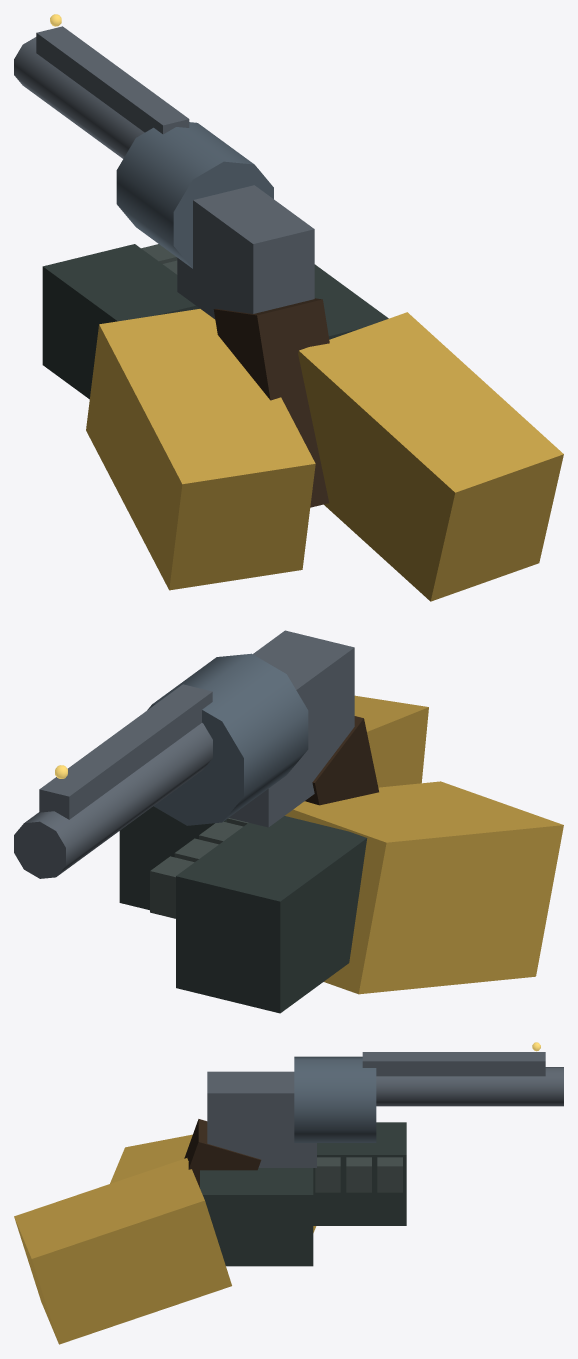
Rendered from service_revolver.glb.
The picture shows the model from 3 angles, top to bottom: view 1: azimuth 30°, elevation 25°; view 2: azimuth 150°, elevation 25°; view 3: azimuth 270°, elevation 25°; orthographic projection. The views are drawn at different scales.
Parts seen in each view (by area): view 1: _MeshInstance3D_3326, _MeshInstance3D_3320, _MeshInstance3D_3315, _MeshInstance3D_3319, Cylinder, _MeshInstance3D_3316, _MeshInstance3D_3313, _MeshInstance3D_3312, _MeshInstance3D_3325; view 2: _MeshInstance3D_3320, _MeshInstance3D_3319, Cylinder, _MeshInstance3D_3315, _MeshInstance3D_3312, _MeshInstance3D_3313, _MeshInstance3D_3326, _MeshInstance3D_3325, _MeshInstance3D_3316, _MeshInstance3D_3321, _MeshInstance3D_3322, _MeshInstance3D_3323; view 3: _MeshInstance3D_3326, _MeshInstance3D_3325, _MeshInstance3D_3315, Cylinder, _MeshInstance3D_3312, _MeshInstance3D_3319, _MeshInstance3D_3313, _MeshInstance3D_3320, _MeshInstance3D_3316, _MeshInstance3D_3321, _MeshInstance3D_3322, _MeshInstance3D_3323.
Part boxes in pixels (<box>): _MeshInstance3D_3326: <box>298,312,563,601</box>; _MeshInstance3D_3320: <box>86,309,315,590</box>; _MeshInstance3D_3315: <box>177,185,314,319</box>; _MeshInstance3D_3319: <box>42,244,199,399</box>; Cylinder: <box>116,122,273,268</box>; _MeshInstance3D_3316: <box>213,298,329,507</box>; _MeshInstance3D_3313: <box>36,26,189,134</box>; _MeshInstance3D_3312: <box>14,37,144,158</box>; _MeshInstance3D_3325: <box>314,264,388,339</box>; _MeshInstance3D_3320: <box>285,781,563,994</box>; _MeshInstance3D_3319: <box>176,816,367,1013</box>; Cylinder: <box>147,653,308,825</box>; _MeshInstance3D_3315: <box>229,630,354,827</box>; _MeshInstance3D_3312: <box>14,723,212,878</box>; _MeshInstance3D_3313: <box>39,684,212,819</box>; _MeshInstance3D_3326: <box>354,695,428,787</box>; _MeshInstance3D_3325: <box>119,806,226,910</box>; _MeshInstance3D_3316: <box>305,716,378,805</box>; _MeshInstance3D_3321: <box>150,856,194,918</box>; _MeshInstance3D_3322: <box>174,838,218,862</box>; _MeshInstance3D_3323: <box>199,821,243,844</box>; _MeshInstance3D_3326: <box>14,1158,231,1344</box>; _MeshInstance3D_3325: <box>200,1168,313,1266</box>; _MeshInstance3D_3315: <box>207,1071,316,1167</box>; Cylinder: <box>294,1056,376,1142</box>; _MeshInstance3D_3312: <box>376,1067,563,1106</box>; _MeshInstance3D_3319: <box>313,1122,406,1225</box>; _MeshInstance3D_3313: <box>362,1052,545,1076</box>; _MeshInstance3D_3320: <box>110,1134,316,1232</box>; _MeshInstance3D_3316: <box>184,1119,261,1187</box>; _MeshInstance3D_3321: <box>377,1157,402,1192</box>; _MeshInstance3D_3322: <box>346,1157,371,1192</box>; _MeshInstance3D_3323: <box>315,1157,340,1192</box>.
Bounding box in the file's own units: 0.1445 × 0.1497 × 0.3007.
